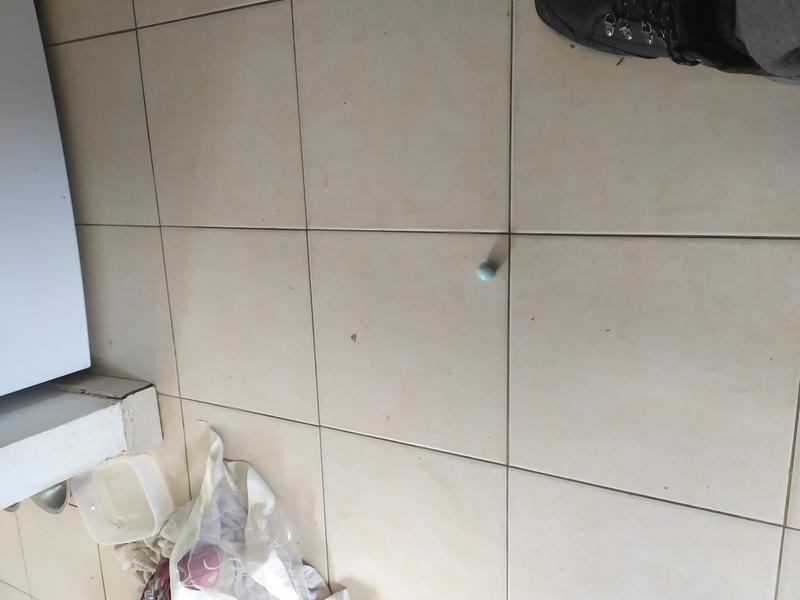Warning: (474, 259, 499, 283)
